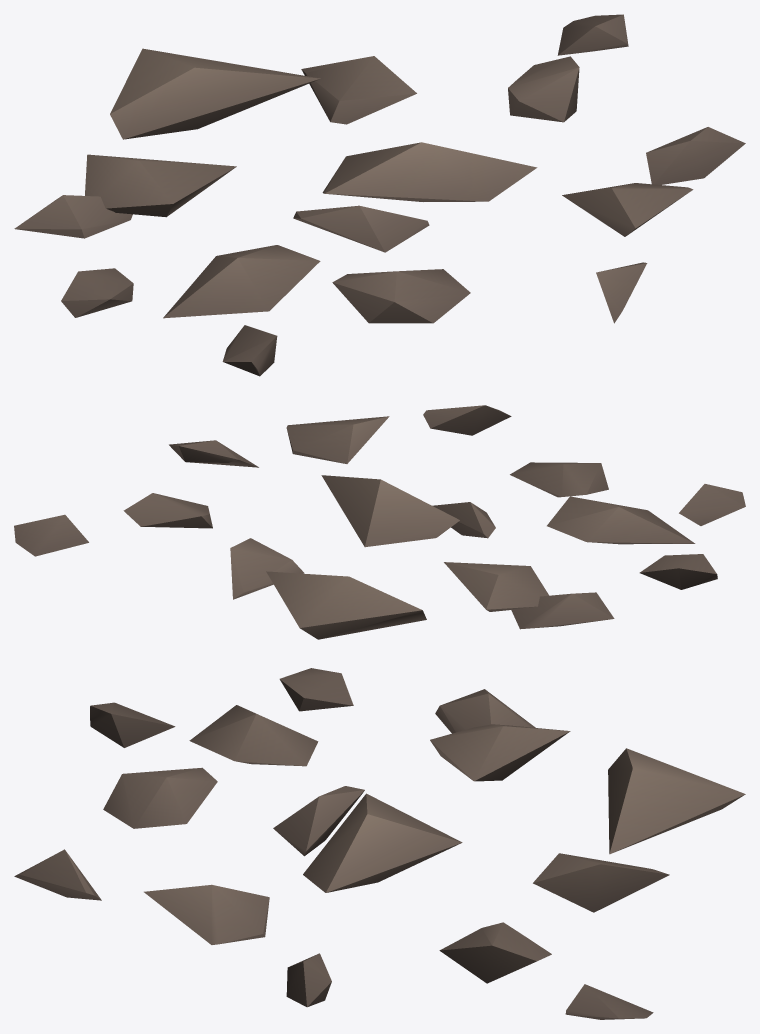
Rendered from rubble_scatter.glb.
3 views of the same model, one above another, from view 1: azimuth 30°, elevation 25°; view 2: azimuth 150°, elevation 25°; view 3: azimuth 270°, elevation 25° (orthographic). The views are drawn at different scales.
Parts seen in each view (by area): view 1: rubble_scatter; view 2: rubble_scatter; view 3: rubble_scatter.
Part boxes in pixels (bbox=[...]): rubble_scatter: bbox=[14, 14, 745, 376]; rubble_scatter: bbox=[14, 405, 745, 639]; rubble_scatter: bbox=[14, 668, 745, 1019].
Size of the model in its own units: 0.9179 by 0.08 by 0.8139.
Materials: 1 (1 with a texture image).
